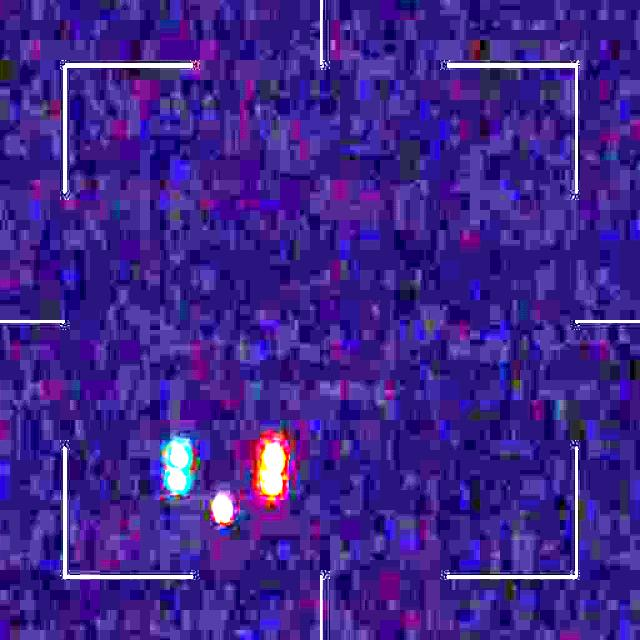bird: (166, 436, 286, 525)
